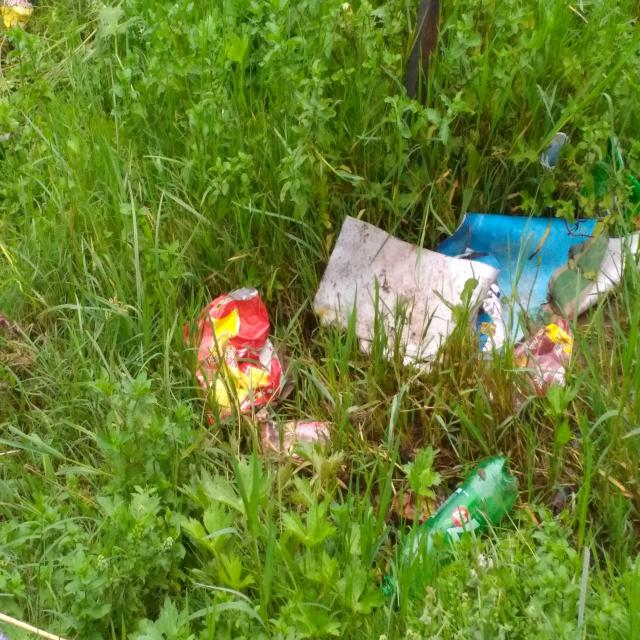litter: (308, 205, 634, 384), (378, 452, 521, 600), (178, 280, 288, 432), (510, 317, 575, 416), (258, 417, 332, 464)
